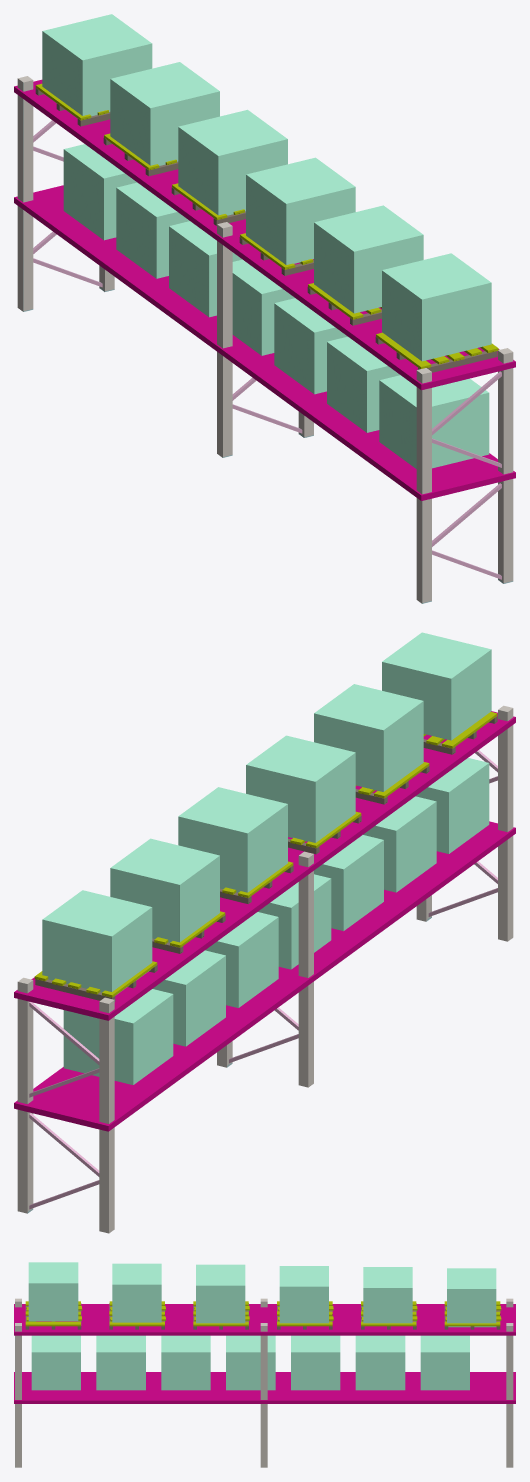
Rendered from ShelfBig.fbx.
The picture shows the model from 3 angles, top to bottom: view 1: azimuth 30°, elevation 25°; view 2: azimuth 150°, elevation 25°; view 3: azimuth 270°, elevation 25°; orthographic projection. The views are drawn at different scales.
Visible parts, largest first — view 1: ShelfBig; view 2: ShelfBig; view 3: ShelfBig.
Part boxes in pixels (left/top/right/bottom): ShelfBig: left=14, top=14, right=515, bottom=603; ShelfBig: left=14, top=632, right=515, bottom=1233; ShelfBig: left=14, top=1262, right=515, bottom=1467.
Size of the model in its own units: 21.41 by 63.52 by 160.
